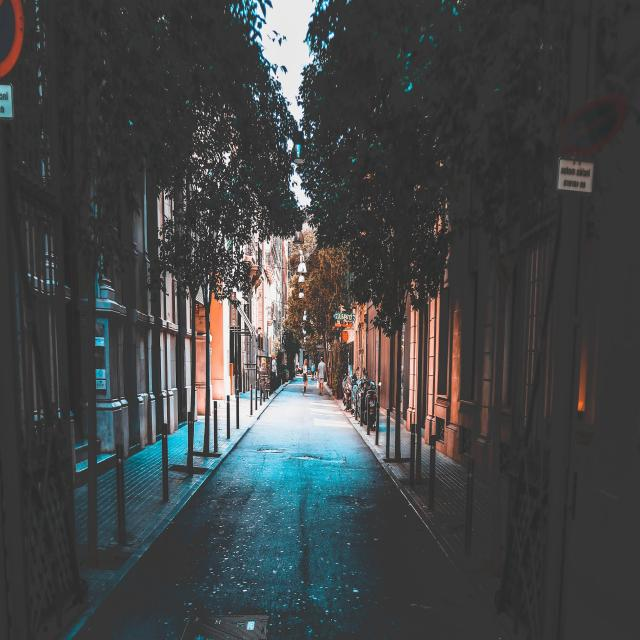adult: (316, 357, 326, 395), (302, 358, 309, 397)
